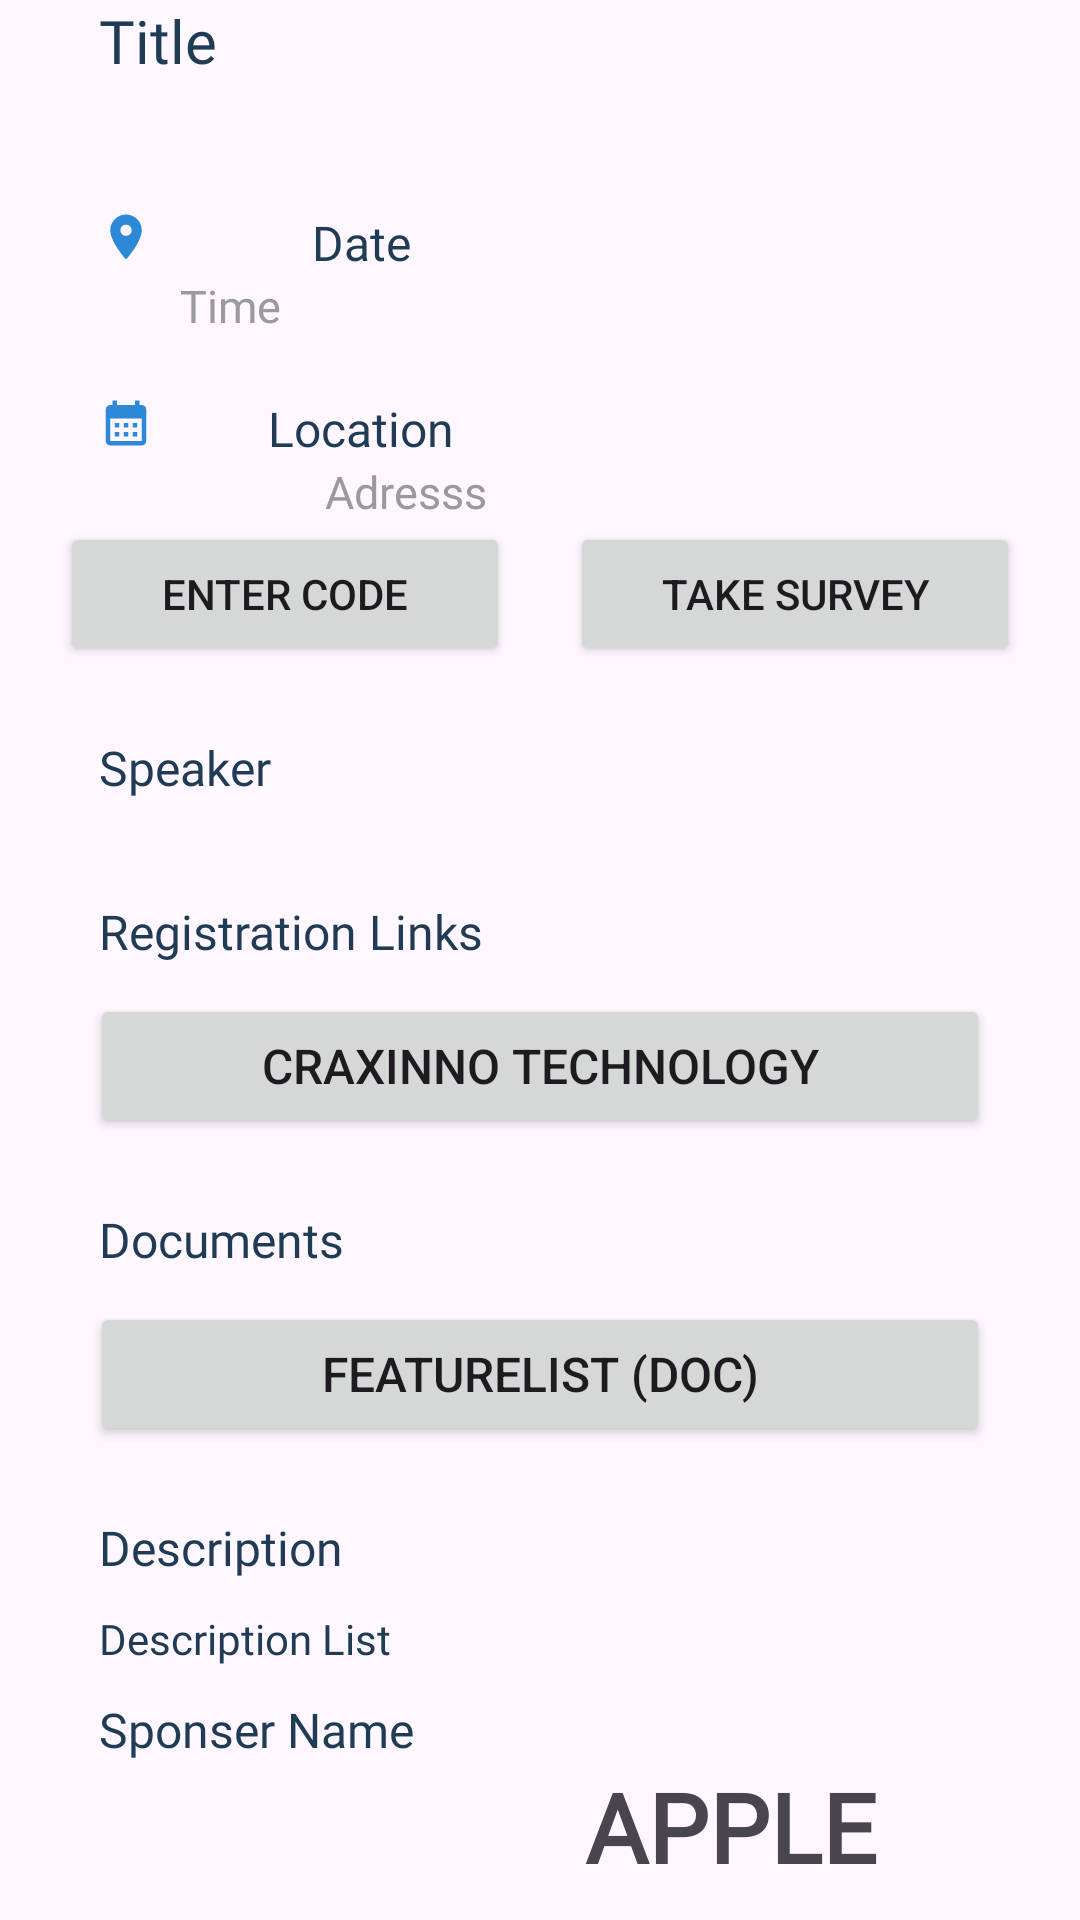

Icons on this 1080 × 1920 Android screen, each with its box as BBox(x1, y1, x2, y2):
calendar month: BBox(105, 400, 147, 446)
